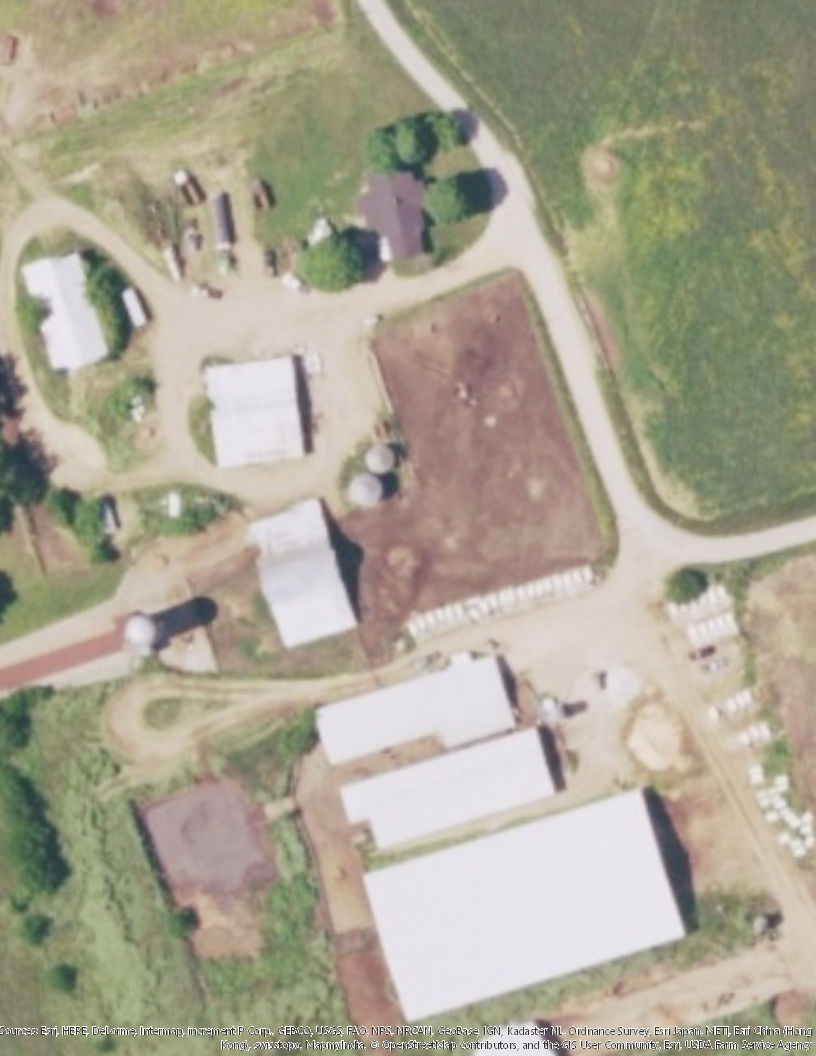cafo: (357, 783, 711, 1024), (288, 655, 544, 773), (330, 732, 583, 839), (242, 490, 387, 655)
